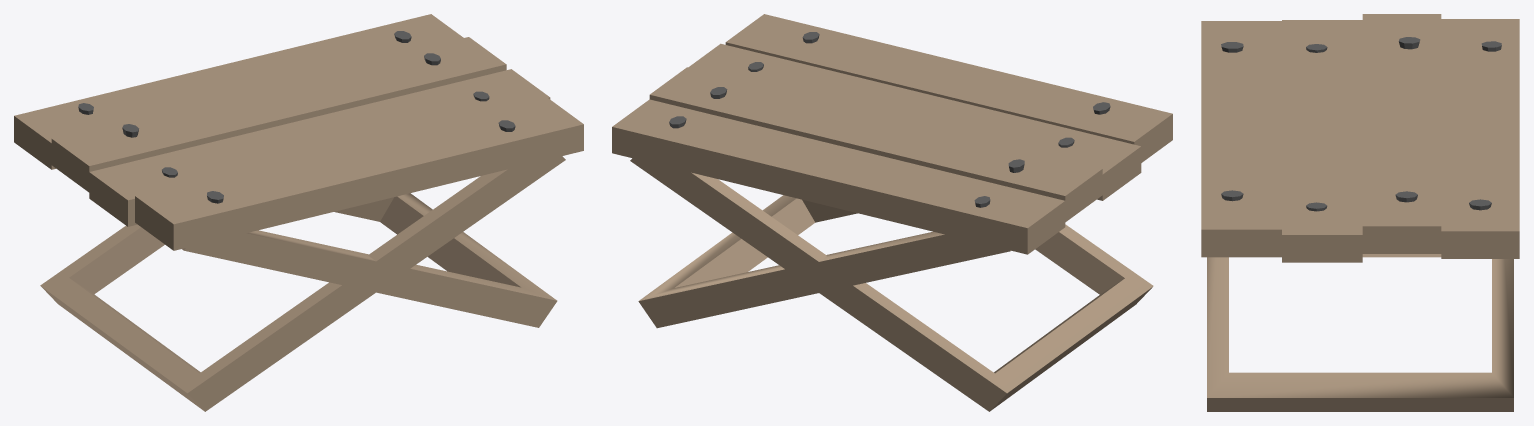
File: Large.glb
3 views of the same model, side by side, from view 1: azimuth 30°, elevation 25°; view 2: azimuth 150°, elevation 25°; view 3: azimuth 270°, elevation 25° (orthographic). The views are drawn at different scales.
Parts seen in each view (by area): view 1: large_table; view 2: large_table; view 3: large_table.
Part boxes in pixels (x1=…): large_table: x1=14, y1=14, x2=583, y2=411; large_table: x1=612, y1=14, x2=1172, y2=411; large_table: x1=1201, y1=14, x2=1519, y2=411.
Bounding box in the file's own units: 2.43 × 1.14 × 1.52.
